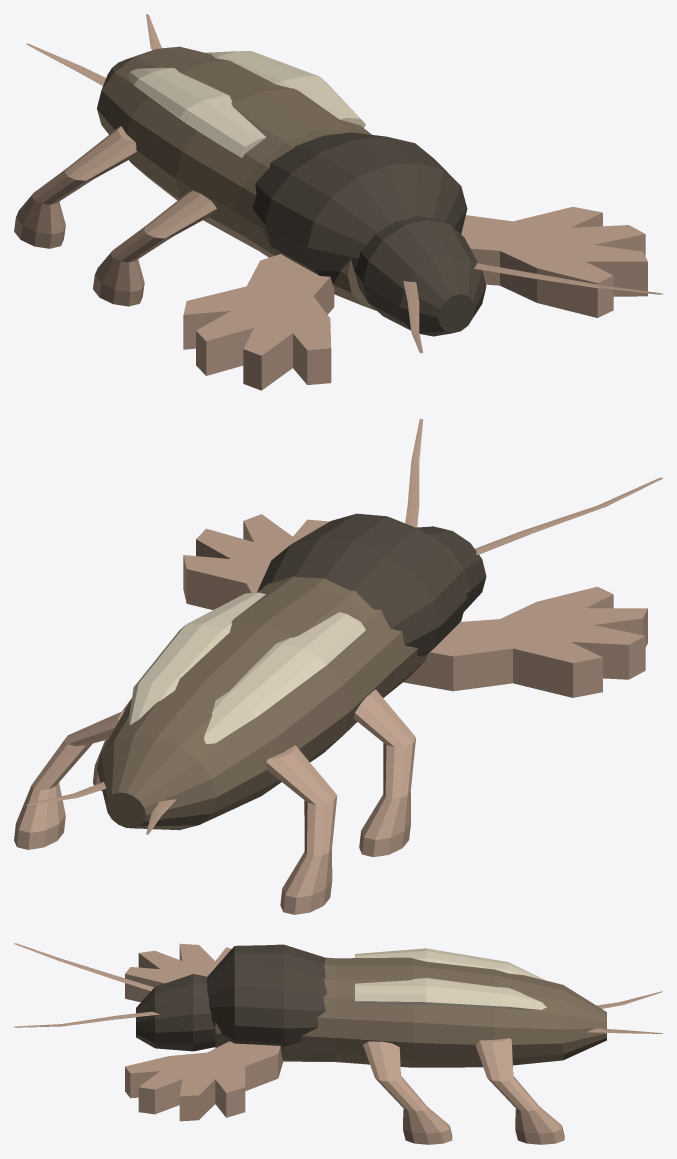
3 renders of one model, top to bottom at view 1: azimuth 30°, elevation 25°; view 2: azimuth 150°, elevation 25°; view 3: azimuth 270°, elevation 25°, orthographic. The views are drawn at different scales.
Parts seen in each view (by area): view 1: WholeLowLongAbdomenAndShortThorax, WholeBroadShortRoundedPronotalShield, WholeOutwardFourToothedSpadeForelimb0, WholeOutwardFourToothedSpadeForelimb1, WholeSmallForwardHead, WholeShortNarrowFoldedForewing0, WholeSlenderBentWalkingLegAndFlatFoot0_1, WholeSlenderBentWalkingLegAndFlatFoot0_0, WholeShortNarrowFoldedForewing1, WholeLongFineForwardAntenna1, WholeLongFineForwardAntenna0; view 2: WholeLowLongAbdomenAndShortThorax, WholeOutwardFourToothedSpadeForelimb0, WholeBroadShortRoundedPronotalShield, WholeShortNarrowFoldedForewing0, WholeOutwardFourToothedSpadeForelimb1, WholeSlenderBentWalkingLegAndFlatFoot0_1, WholeSlenderBentWalkingLegAndFlatFoot0_0, WholeShortNarrowFoldedForewing1, WholeSlenderBentWalkingLegAndFlatFoot1_1, WholeSmallForwardHead, WholeLongFineForwardAntenna0, WholeLongFineForwardAntenna1; view 3: WholeLowLongAbdomenAndShortThorax, WholeBroadShortRoundedPronotalShield, WholeOutwardFourToothedSpadeForelimb1, WholeSmallForwardHead, WholeShortNarrowFoldedForewing1, WholeSlenderBentWalkingLegAndFlatFoot1_1, WholeSlenderBentWalkingLegAndFlatFoot1_0, WholeOutwardFourToothedSpadeForelimb0, WholeShortNarrowFoldedForewing0, WholeLongFineForwardAntenna0, WholeLongFineForwardAntenna1.
Boxes of the visible parts, x1,y1,x2,y2 form: WholeLowLongAbdomenAndShortThorax: [97, 46, 376, 310]; WholeBroadShortRoundedPronotalShield: [252, 132, 467, 286]; WholeOutwardFourToothedSpadeForelimb0: [183, 254, 334, 390]; WholeOutwardFourToothedSpadeForelimb1: [461, 207, 647, 317]; WholeSmallForwardHead: [354, 216, 486, 336]; WholeShortNarrowFoldedForewing0: [128, 67, 266, 157]; WholeSlenderBentWalkingLegAndFlatFoot0_1: [14, 126, 136, 248]; WholeSlenderBentWalkingLegAndFlatFoot0_0: [93, 190, 216, 306]; WholeShortNarrowFoldedForewing1: [205, 51, 365, 127]; WholeLongFineForwardAntenna1: [474, 263, 662, 294]; WholeLongFineForwardAntenna0: [403, 281, 422, 353]; WholeLowLongAbdomenAndShortThorax: [97, 576, 427, 830]; WholeOutwardFourToothedSpadeForelimb0: [403, 586, 647, 697]; WholeBroadShortRoundedPronotalShield: [257, 513, 467, 655]; WholeShortNarrowFoldedForewing0: [204, 612, 365, 743]; WholeOutwardFourToothedSpadeForelimb1: [183, 514, 329, 609]; WholeSlenderBentWalkingLegAndFlatFoot0_1: [266, 745, 337, 914]; WholeSlenderBentWalkingLegAndFlatFoot0_0: [353, 689, 415, 857]; WholeShortNarrowFoldedForewing1: [128, 592, 265, 725]; WholeSlenderBentWalkingLegAndFlatFoot1_1: [14, 710, 124, 849]; WholeSmallForwardHead: [416, 526, 486, 611]; WholeLongFineForwardAntenna0: [475, 477, 662, 555]; WholeLongFineForwardAntenna1: [405, 419, 423, 527]; WholeLowLongAbdomenAndShortThorax: [215, 957, 606, 1067]; WholeBroadShortRoundedPronotalShield: [206, 944, 327, 1046]; WholeOutwardFourToothedSpadeForelimb1: [125, 1041, 283, 1121]; WholeSmallForwardHead: [136, 974, 215, 1051]; WholeShortNarrowFoldedForewing1: [355, 977, 546, 1009]; WholeSlenderBentWalkingLegAndFlatFoot1_1: [475, 1038, 564, 1144]; WholeSlenderBentWalkingLegAndFlatFoot1_0: [363, 1041, 452, 1144]; WholeOutwardFourToothedSpadeForelimb0: [125, 943, 231, 1002]; WholeShortNarrowFoldedForewing0: [355, 948, 545, 980]; WholeLongFineForwardAntenna0: [14, 943, 154, 991]; WholeLongFineForwardAntenna1: [14, 1011, 159, 1027].
Size of the model in its own units: 1.32 by 0.56 by 2.37.
